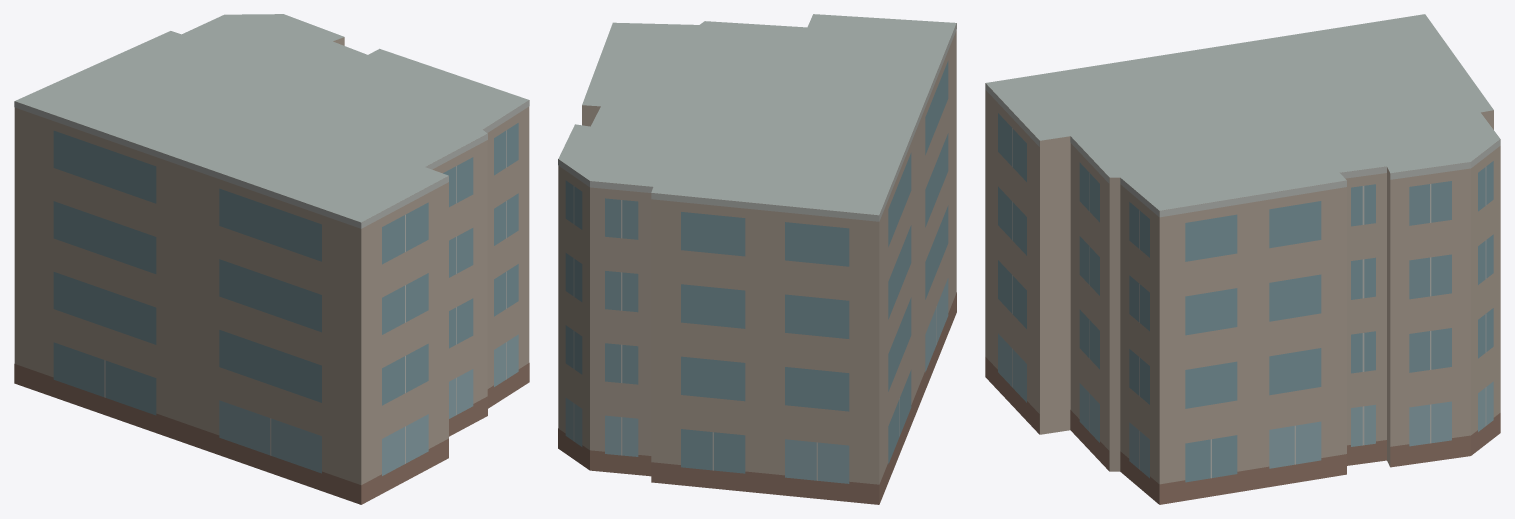
The model's file is survey-upis-32881506.glb.
3 renders of one model, left to right at view 1: azimuth 30°, elevation 25°; view 2: azimuth 150°, elevation 25°; view 3: azimuth 270°, elevation 25°, orthographic. The views are drawn at different scales.
Visible parts, largest first — view 1: survey-upis-32881506.tmp; view 2: survey-upis-32881506.tmp; view 3: survey-upis-32881506.tmp.
Boxes of the visible parts, x1,y1,x2,y2 form: survey-upis-32881506.tmp: (14, 14, 529, 504); survey-upis-32881506.tmp: (558, 14, 956, 504); survey-upis-32881506.tmp: (985, 14, 1500, 504).
Bounding box in the file's own units: 15.66 × 10.9 × 17.32.
